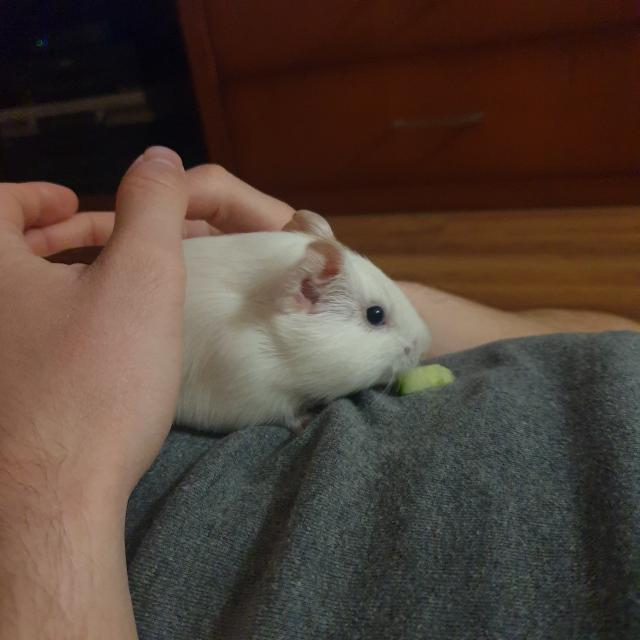guinea pig: (118, 210, 432, 436)
